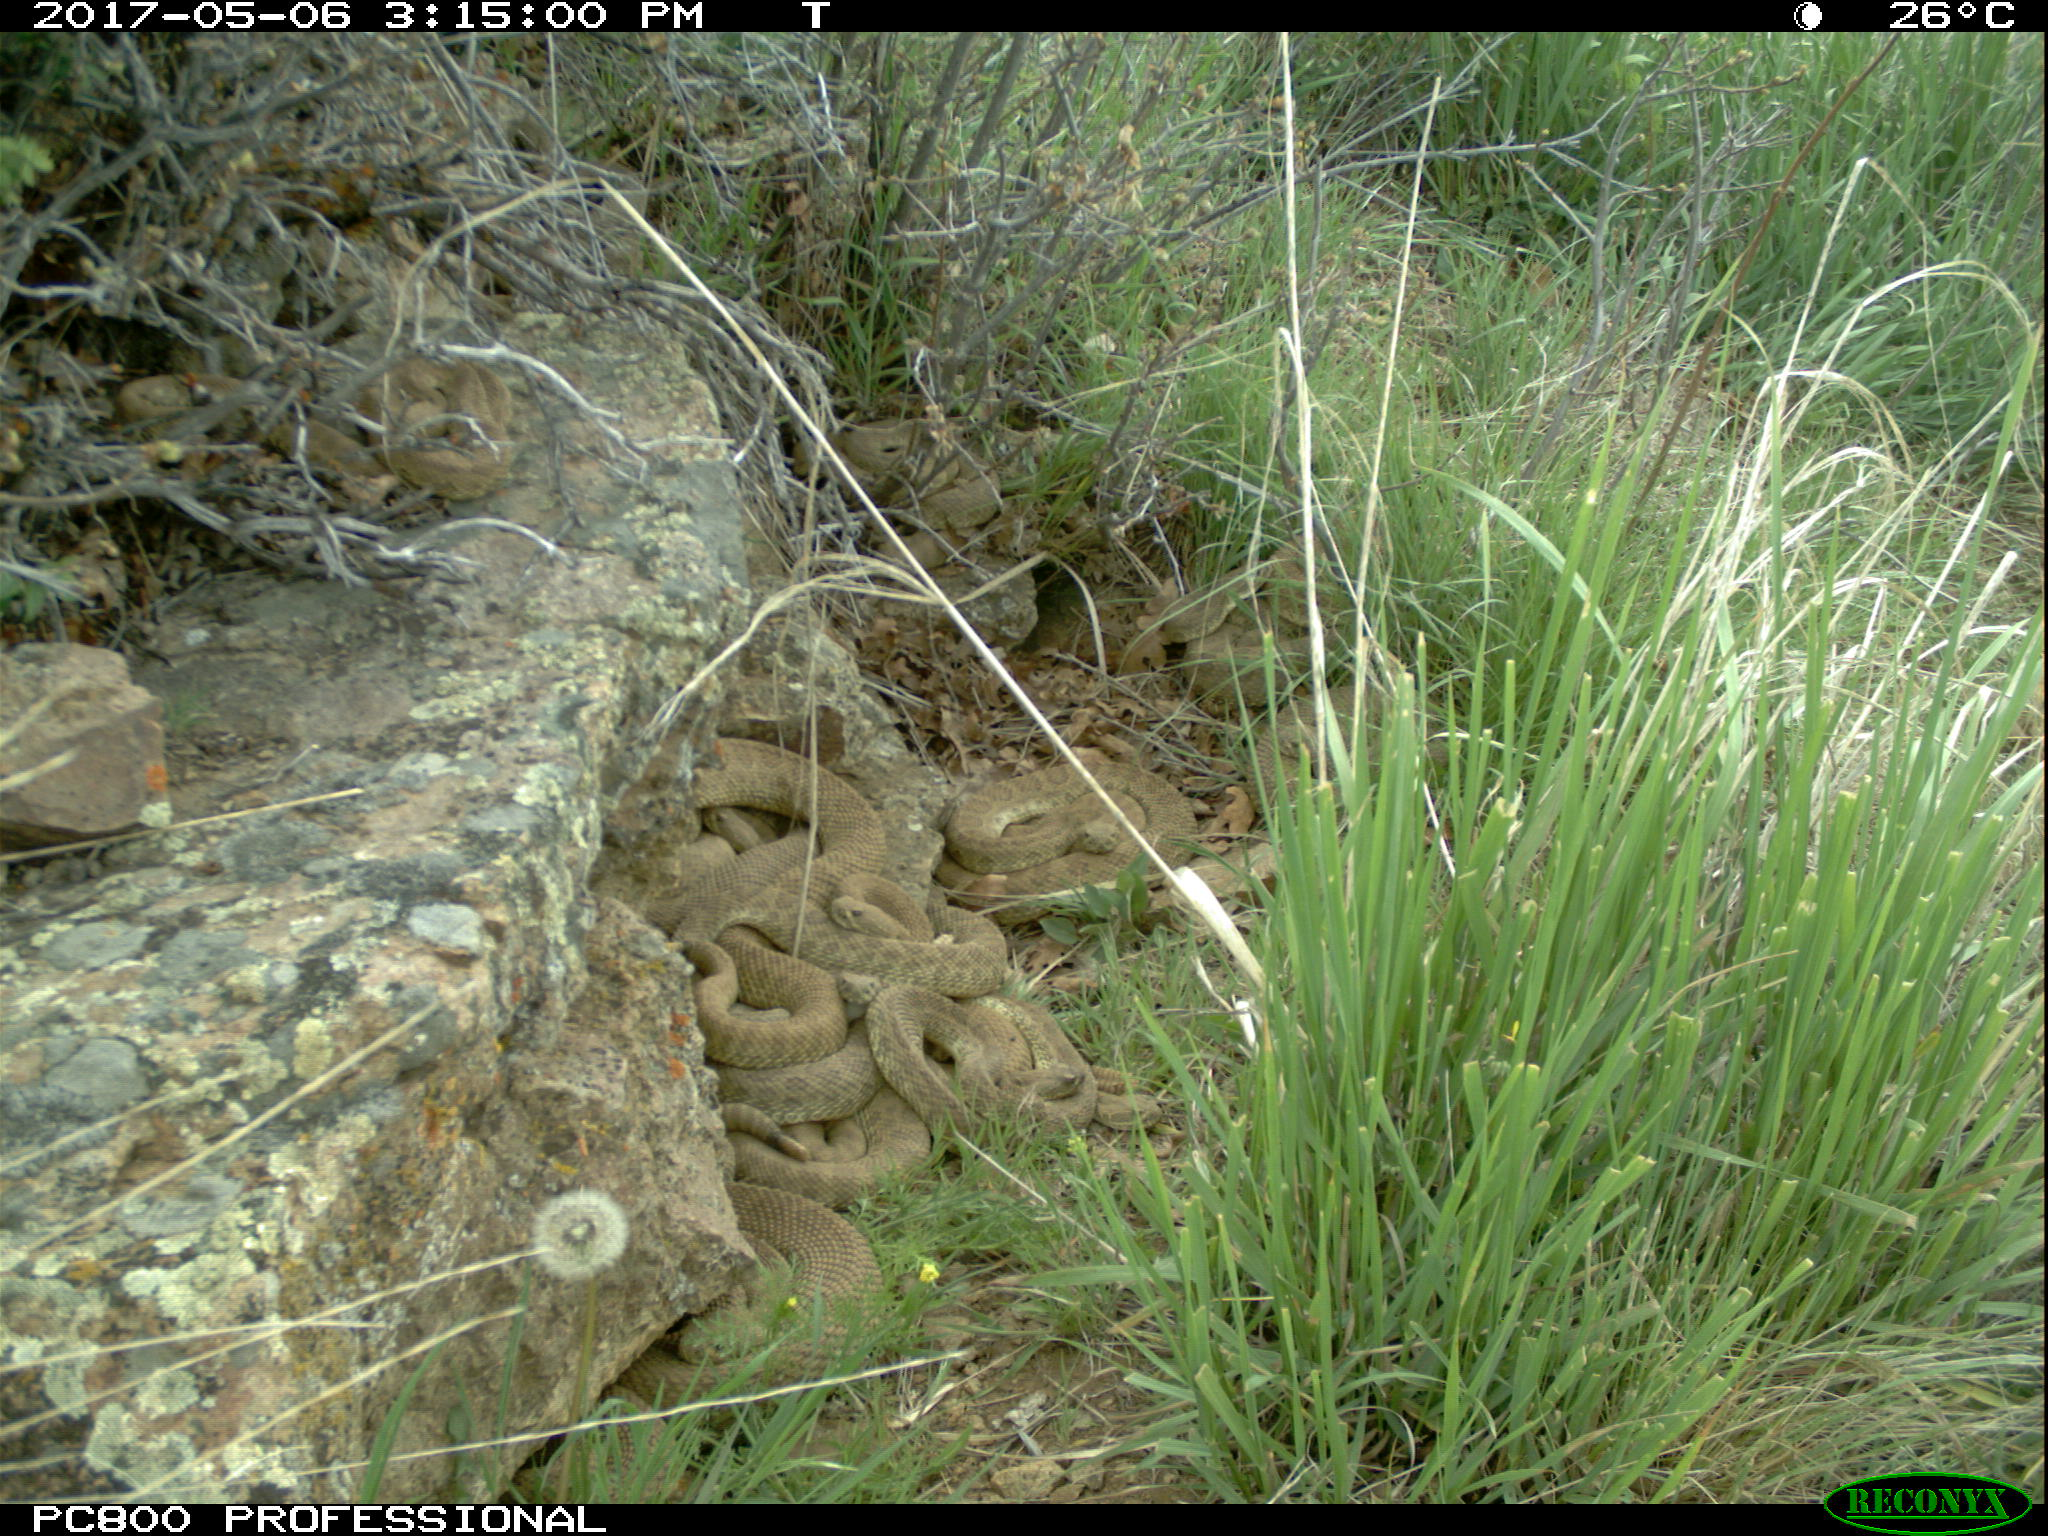snake: (863, 979, 1172, 1150), (647, 1175, 884, 1388), (108, 345, 387, 511), (947, 750, 1221, 916), (697, 925, 898, 1115), (698, 737, 887, 925), (710, 1063, 964, 1196), (1255, 682, 1464, 834), (785, 863, 1018, 992), (1153, 552, 1338, 702), (818, 419, 1006, 542), (369, 368, 513, 502), (548, 1384, 674, 1502)
